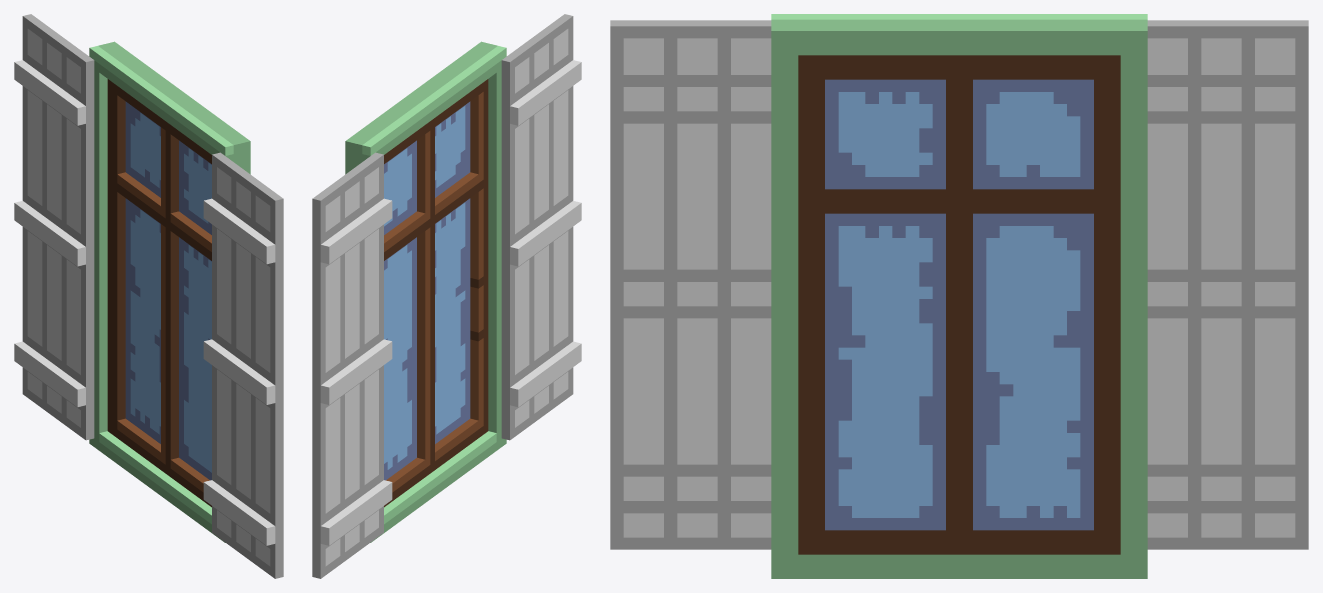
File: window_textured_big_white_green.obj
3 renders of one model, left to right at view 1: azimuth 30°, elevation 25°; view 2: azimuth 150°, elevation 25°; view 3: azimuth 270°, elevation 25°, orthographic. The views are drawn at different scales.
Bounding box in the file's own units: 0.5 × 4.5 × 5.2.
Materials: 1 (1 with a texture image).
